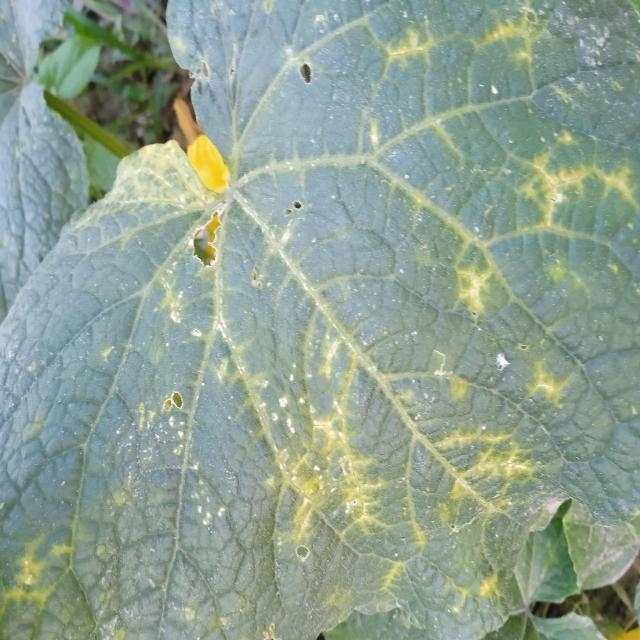cucumber_downy: (65, 22, 632, 584)
